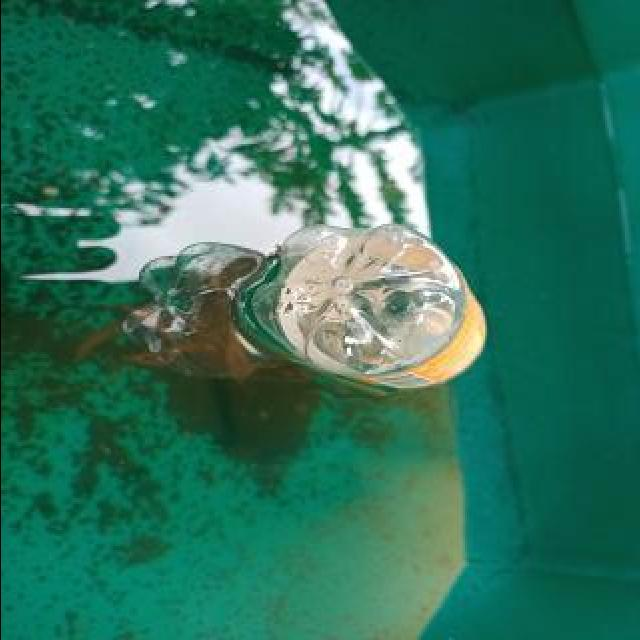Bottle: (256, 215, 494, 403)
